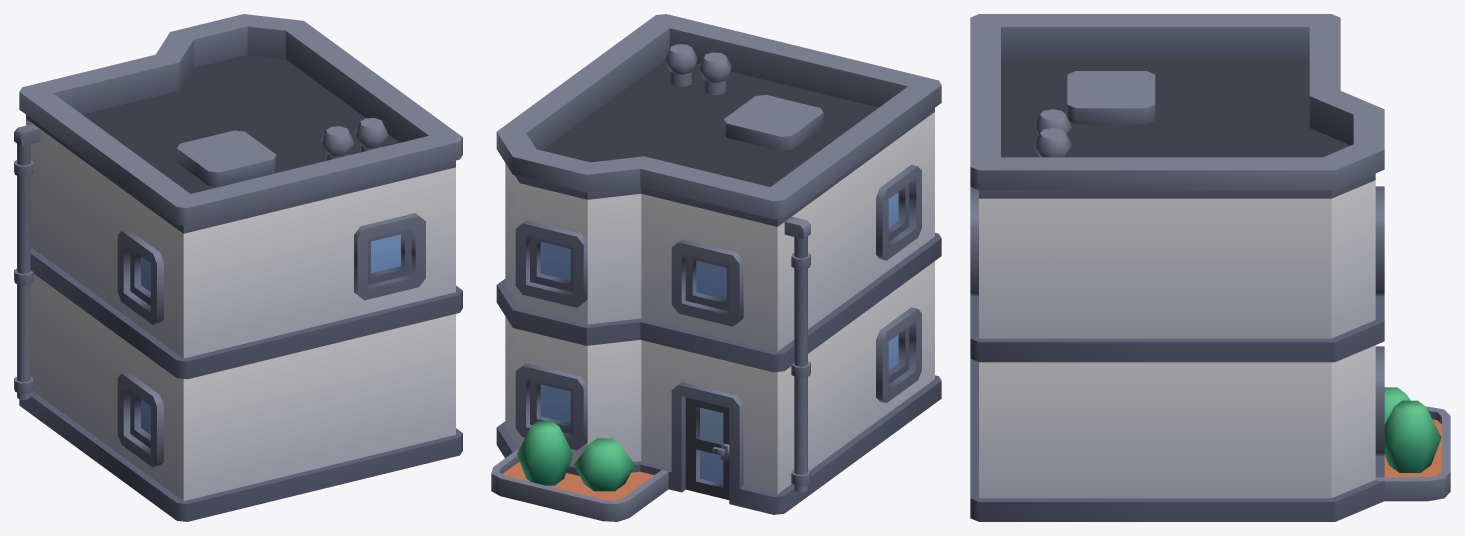
Rendered from c_building-c.glb.
3 renders of one model, left to right at view 1: azimuth 30°, elevation 25°; view 2: azimuth 150°, elevation 25°; view 3: azimuth 270°, elevation 25°, orthographic. The views are drawn at different scales.
Visible parts, largest first — view 1: building-c; view 2: building-c; view 3: building-c.
Boxes of the visible parts, x1=… form: building-c: x1=14, y1=14, x2=462, y2=521; building-c: x1=491, y1=14, x2=941, y2=521; building-c: x1=970, y1=14, x2=1450, y2=521.
Bounding box in the file's own units: 0.8836 × 0.901 × 1.09.
Materials: 1 (1 with a texture image).
